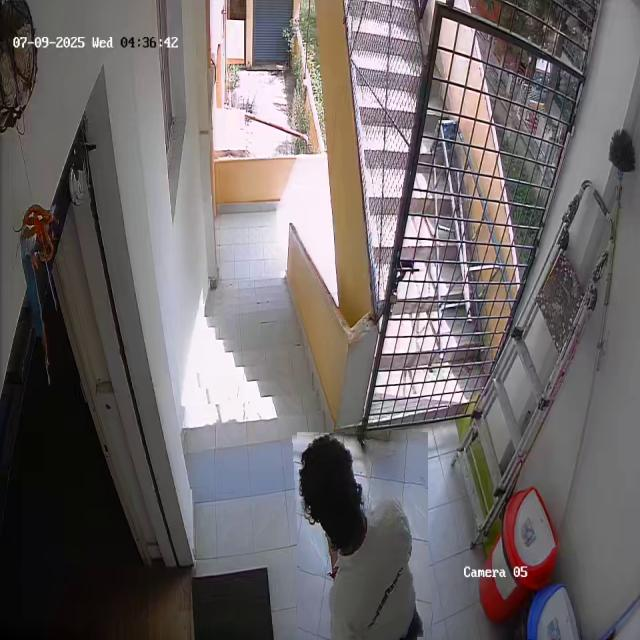person: (294, 430, 430, 640)
